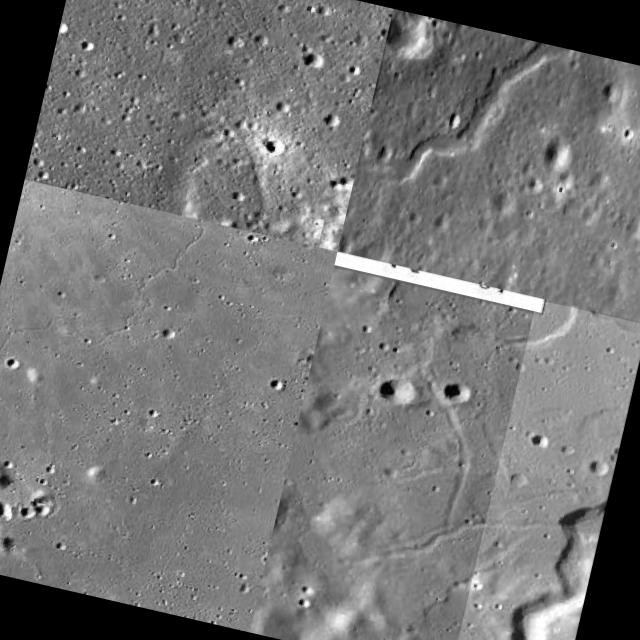rille: (449, 299, 640, 640), (354, 8, 621, 225), (24, 0, 205, 206)
